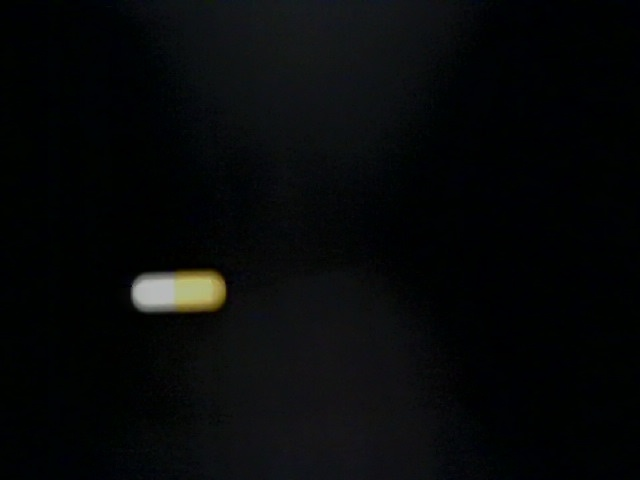YHLJ: (308, 318, 433, 420)
